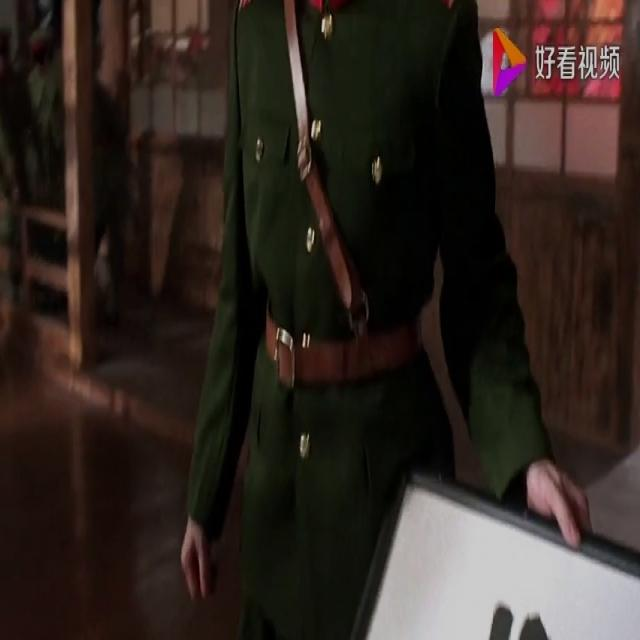non-fight: (175, 0, 602, 640)
